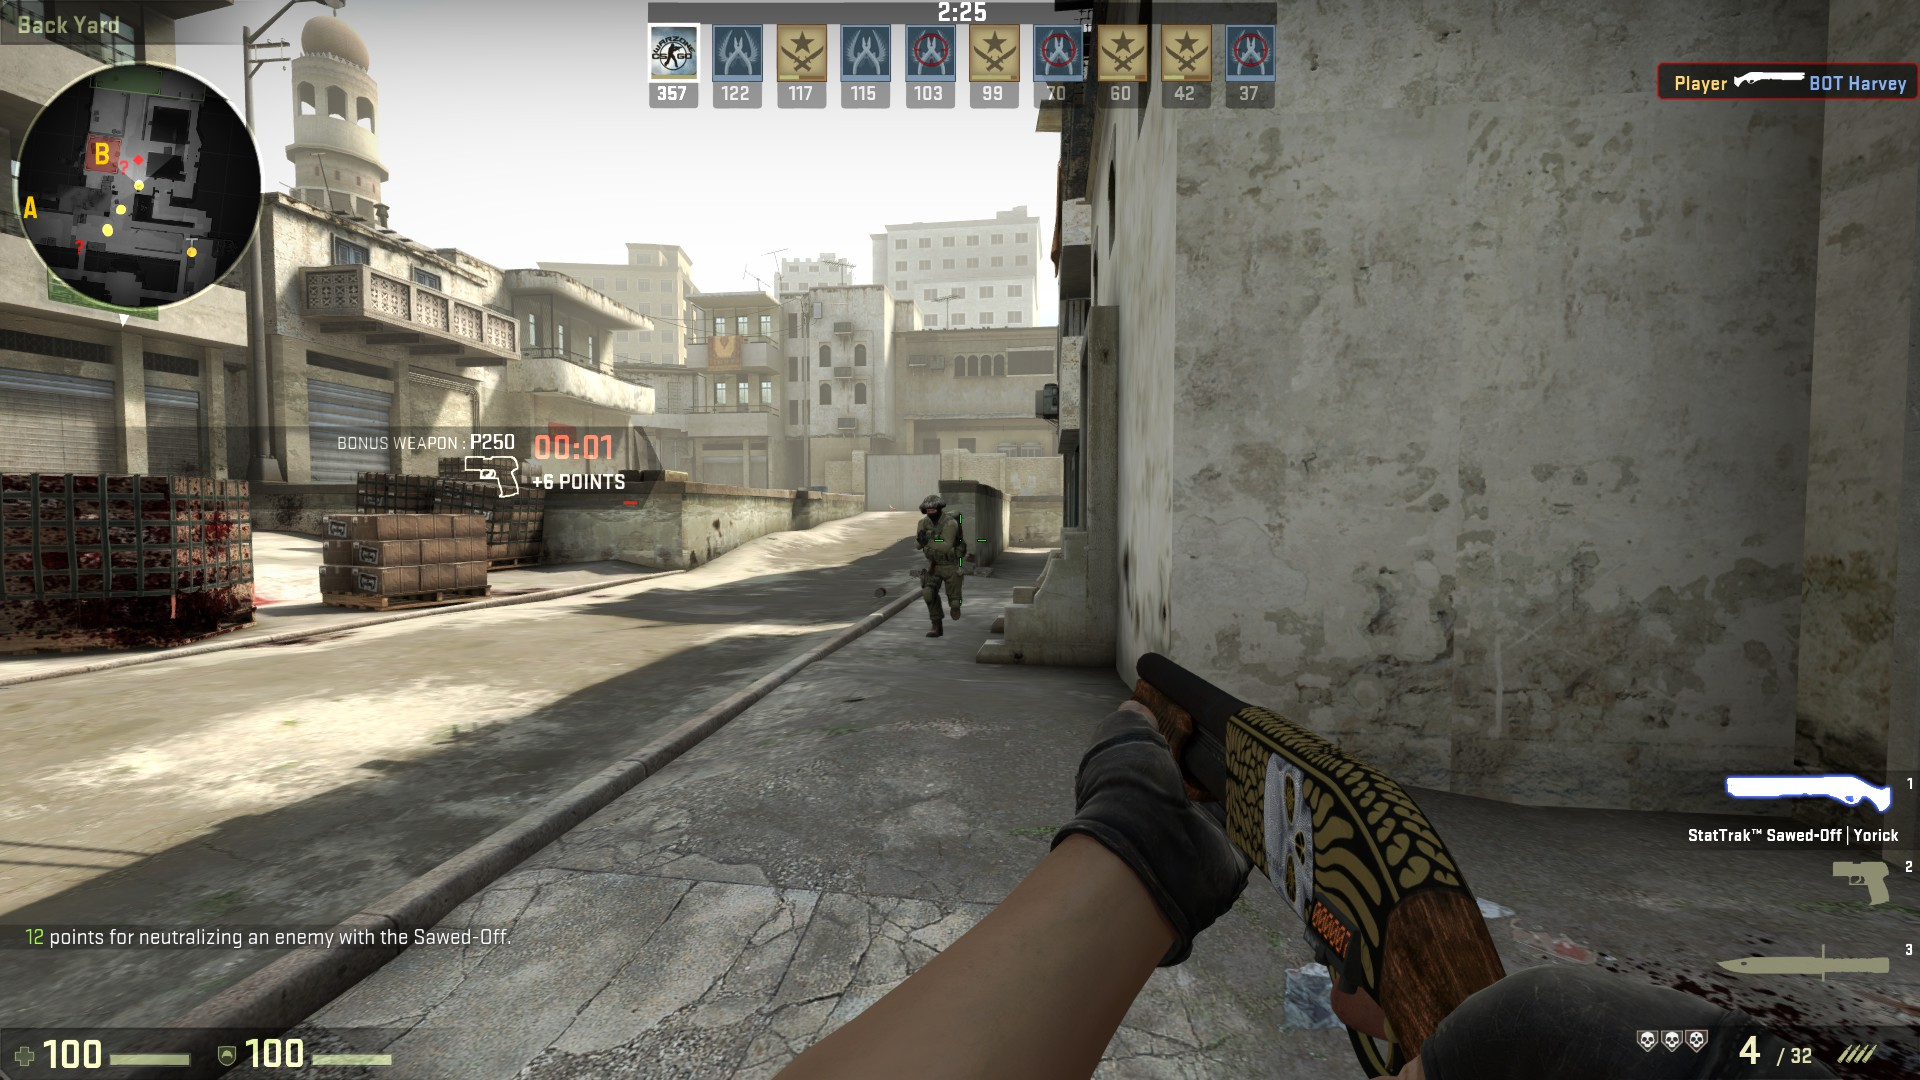c: (914, 493, 965, 641)
ch: (920, 495, 945, 524)
